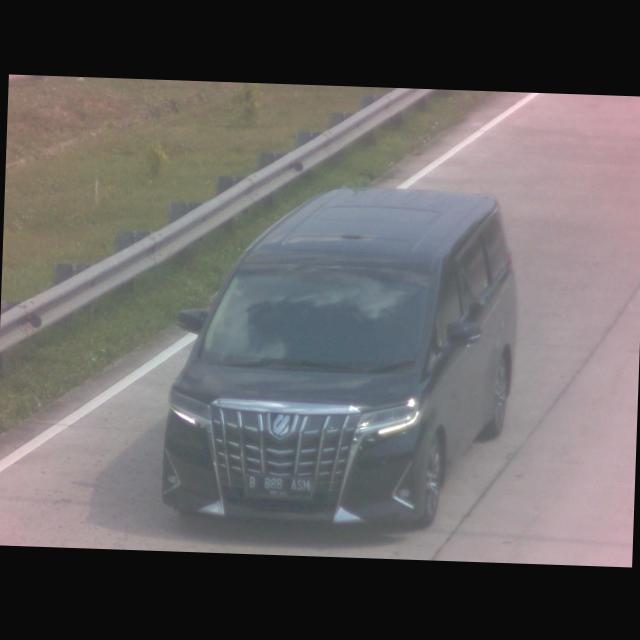plate: (243, 471, 314, 500)
